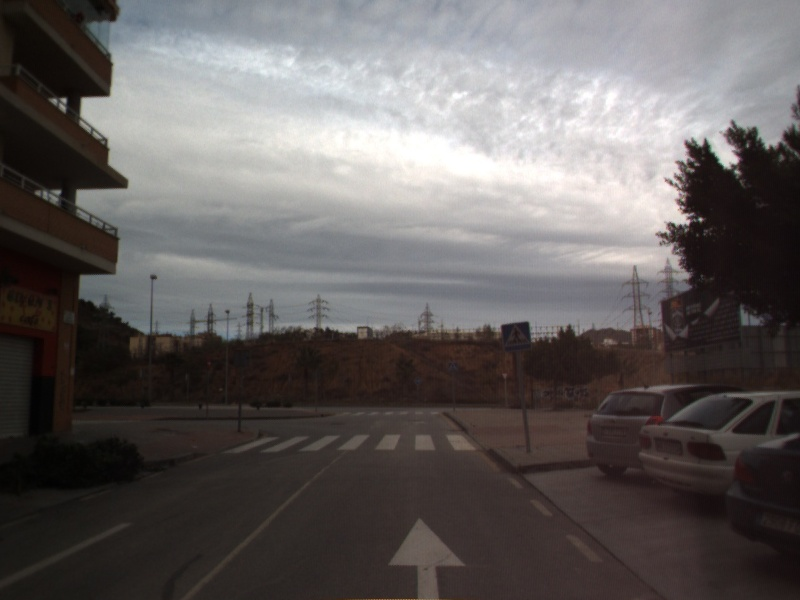STRAIGHT: (384, 513, 470, 600)
